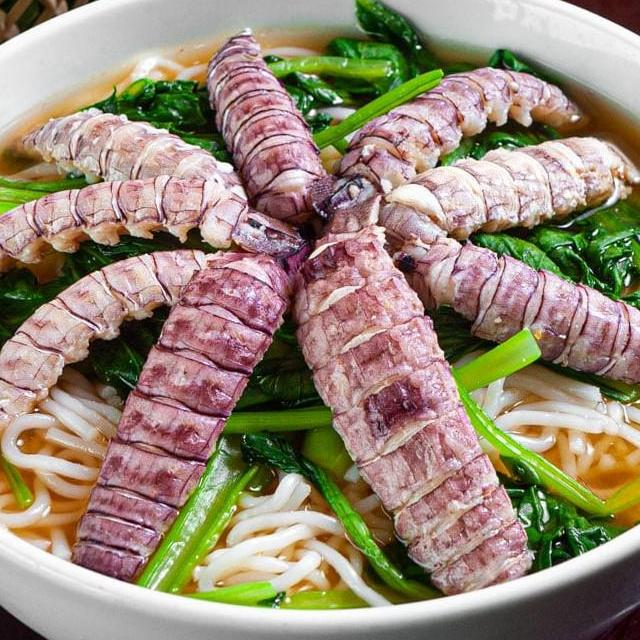bun: (438, 328, 640, 518), (186, 464, 422, 615), (0, 365, 130, 571)
tom tit: (284, 224, 544, 608), (61, 238, 308, 588), (0, 236, 271, 470), (302, 61, 594, 232), (373, 227, 640, 410), (318, 117, 640, 267), (0, 170, 321, 317), (198, 21, 346, 256), (0, 100, 264, 228)
